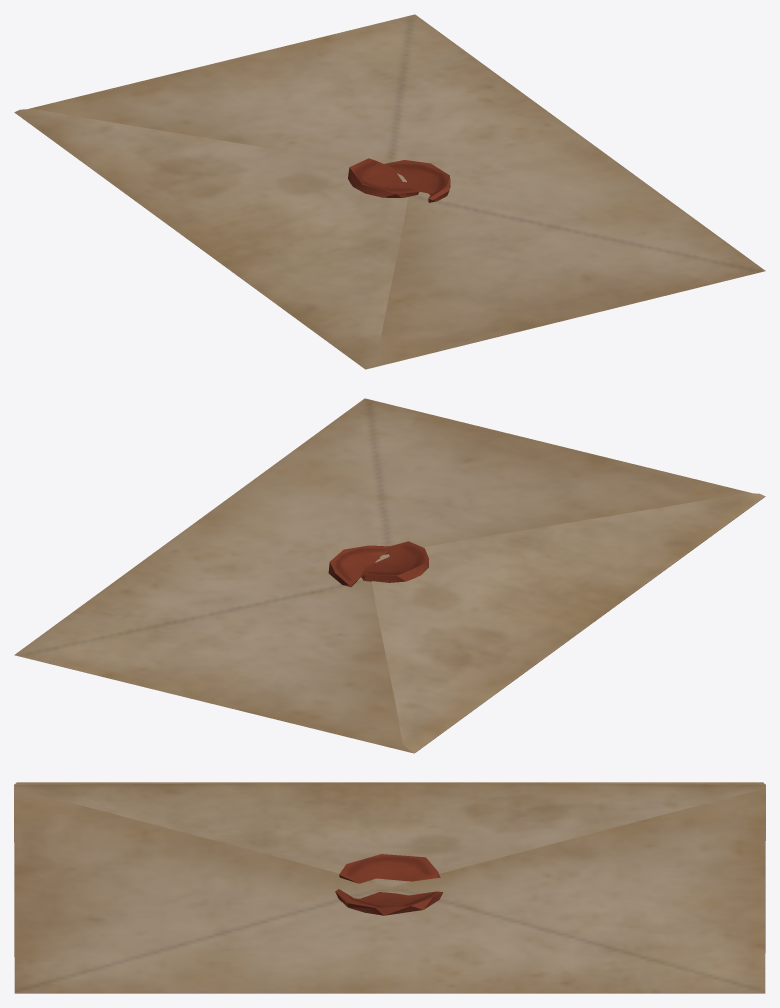
File: envelope.lod1.glb
3 renders of one model, top to bottom at view 1: azimuth 30°, elevation 25°; view 2: azimuth 150°, elevation 25°; view 3: azimuth 270°, elevation 25°, orthographic. The views are drawn at different scales.
Parts seen in each view (by area): view 1: envelope.001; view 2: envelope.001; view 3: envelope.001.
Boxes of the visible parts, box(x1,y1,x2,y2) form: envelope.001: box(14, 14, 765, 369); envelope.001: box(14, 398, 765, 753); envelope.001: box(14, 782, 765, 993).
Bounding box in the file's own units: 0.0714 × 0.00312 × 0.1081.
Materials: 1 (1 with a texture image).
